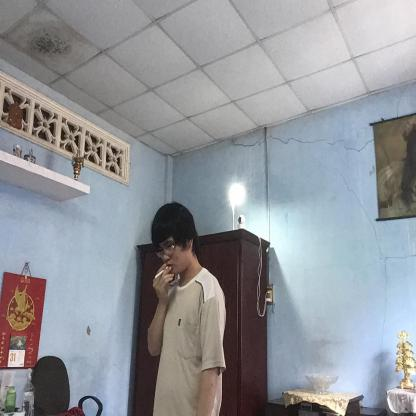cigarette: (154, 269, 164, 280)
person: (143, 204, 228, 416)
